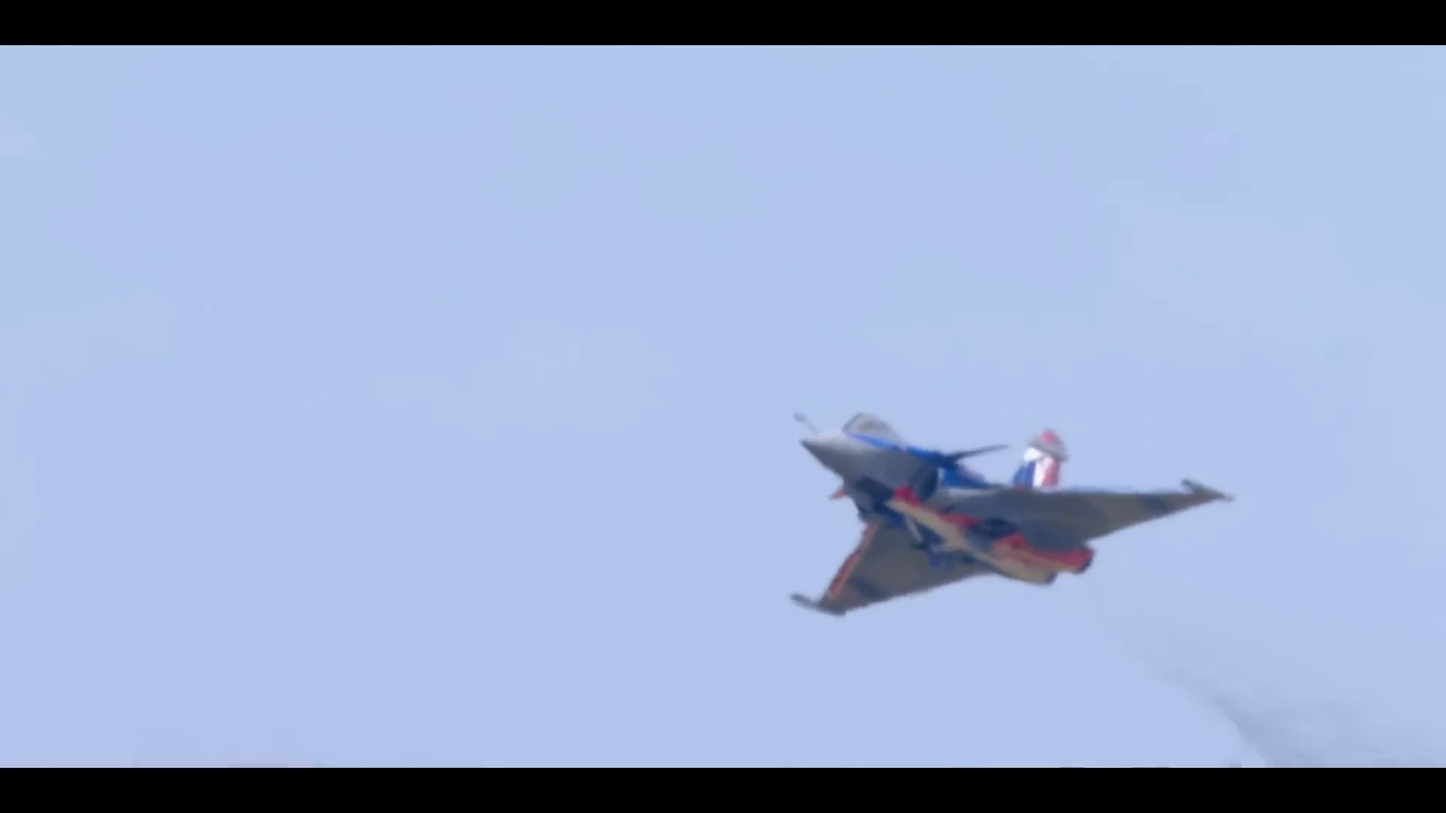Rafale: (764, 392, 1239, 630)
